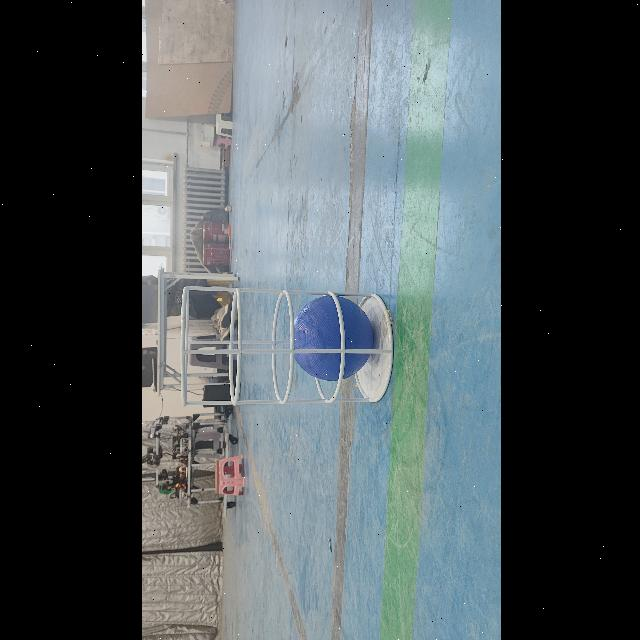B: (288, 296, 372, 382)
S: (176, 282, 398, 412)
